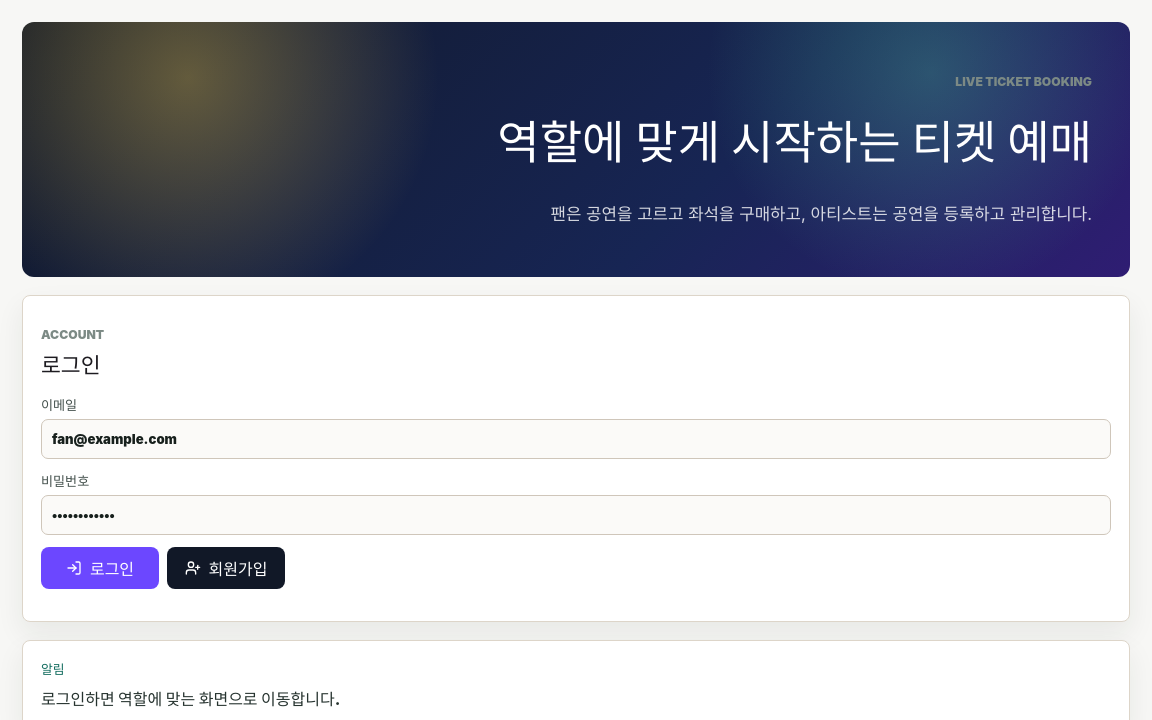
Test: Ticket frontend › starts on the login page when there is no saved session
Expected: the heading "로그인" is shown, [41, 348, 104, 380]
Expected: the button "로그인" is shown, [41, 548, 159, 590]
Click the button "회원가입".
click(226, 568)  # box [167, 548, 285, 590]
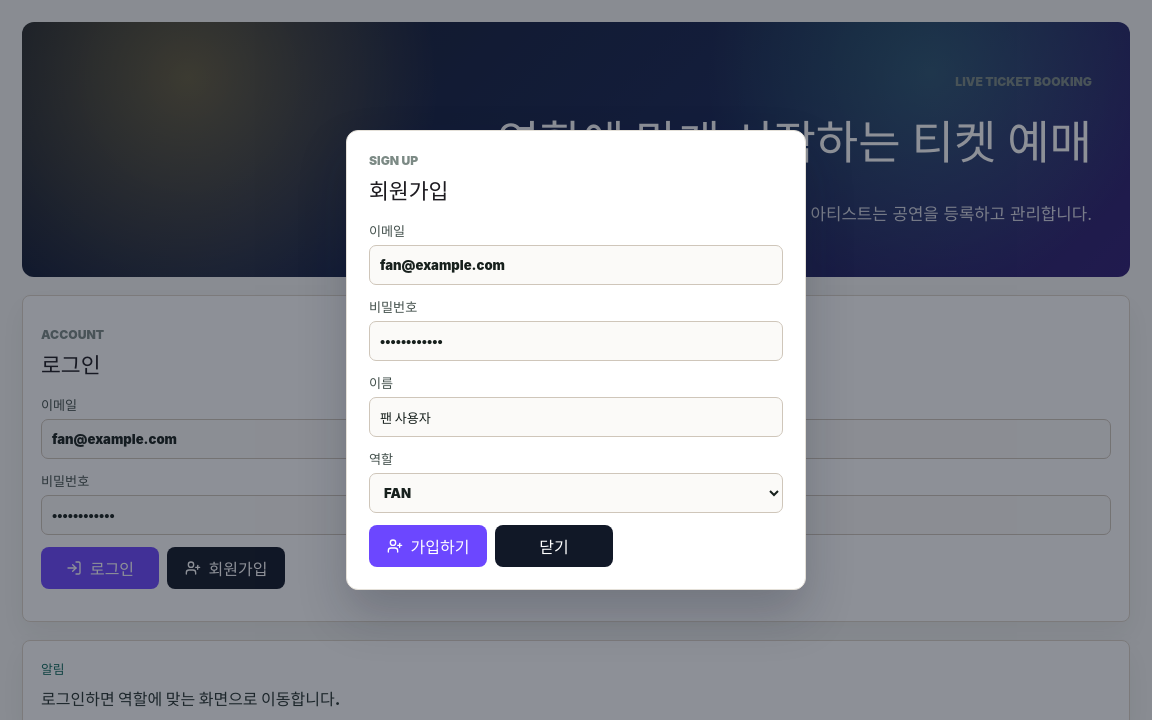
Expected: the dialog is shown, [346, 130, 806, 590]
Expected: the heading "회원가입" is shown, [369, 174, 448, 205]
Expected: the field labelled "이름" is shown, [369, 397, 783, 437]
